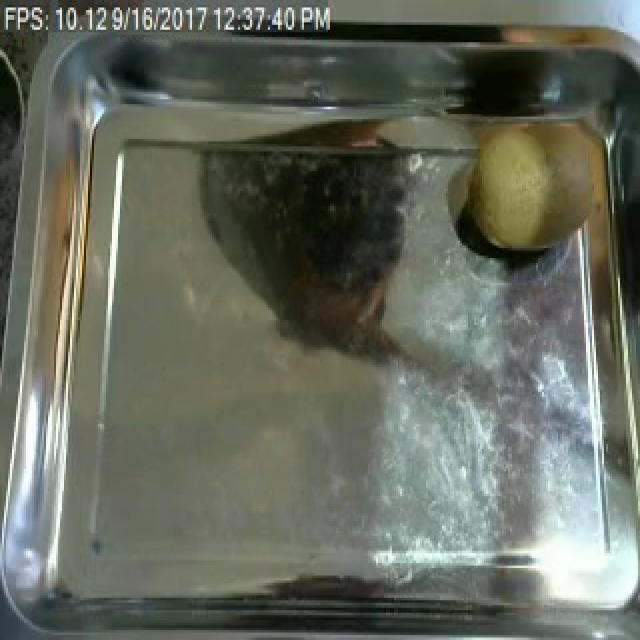Fruit: (450, 104, 616, 268)
